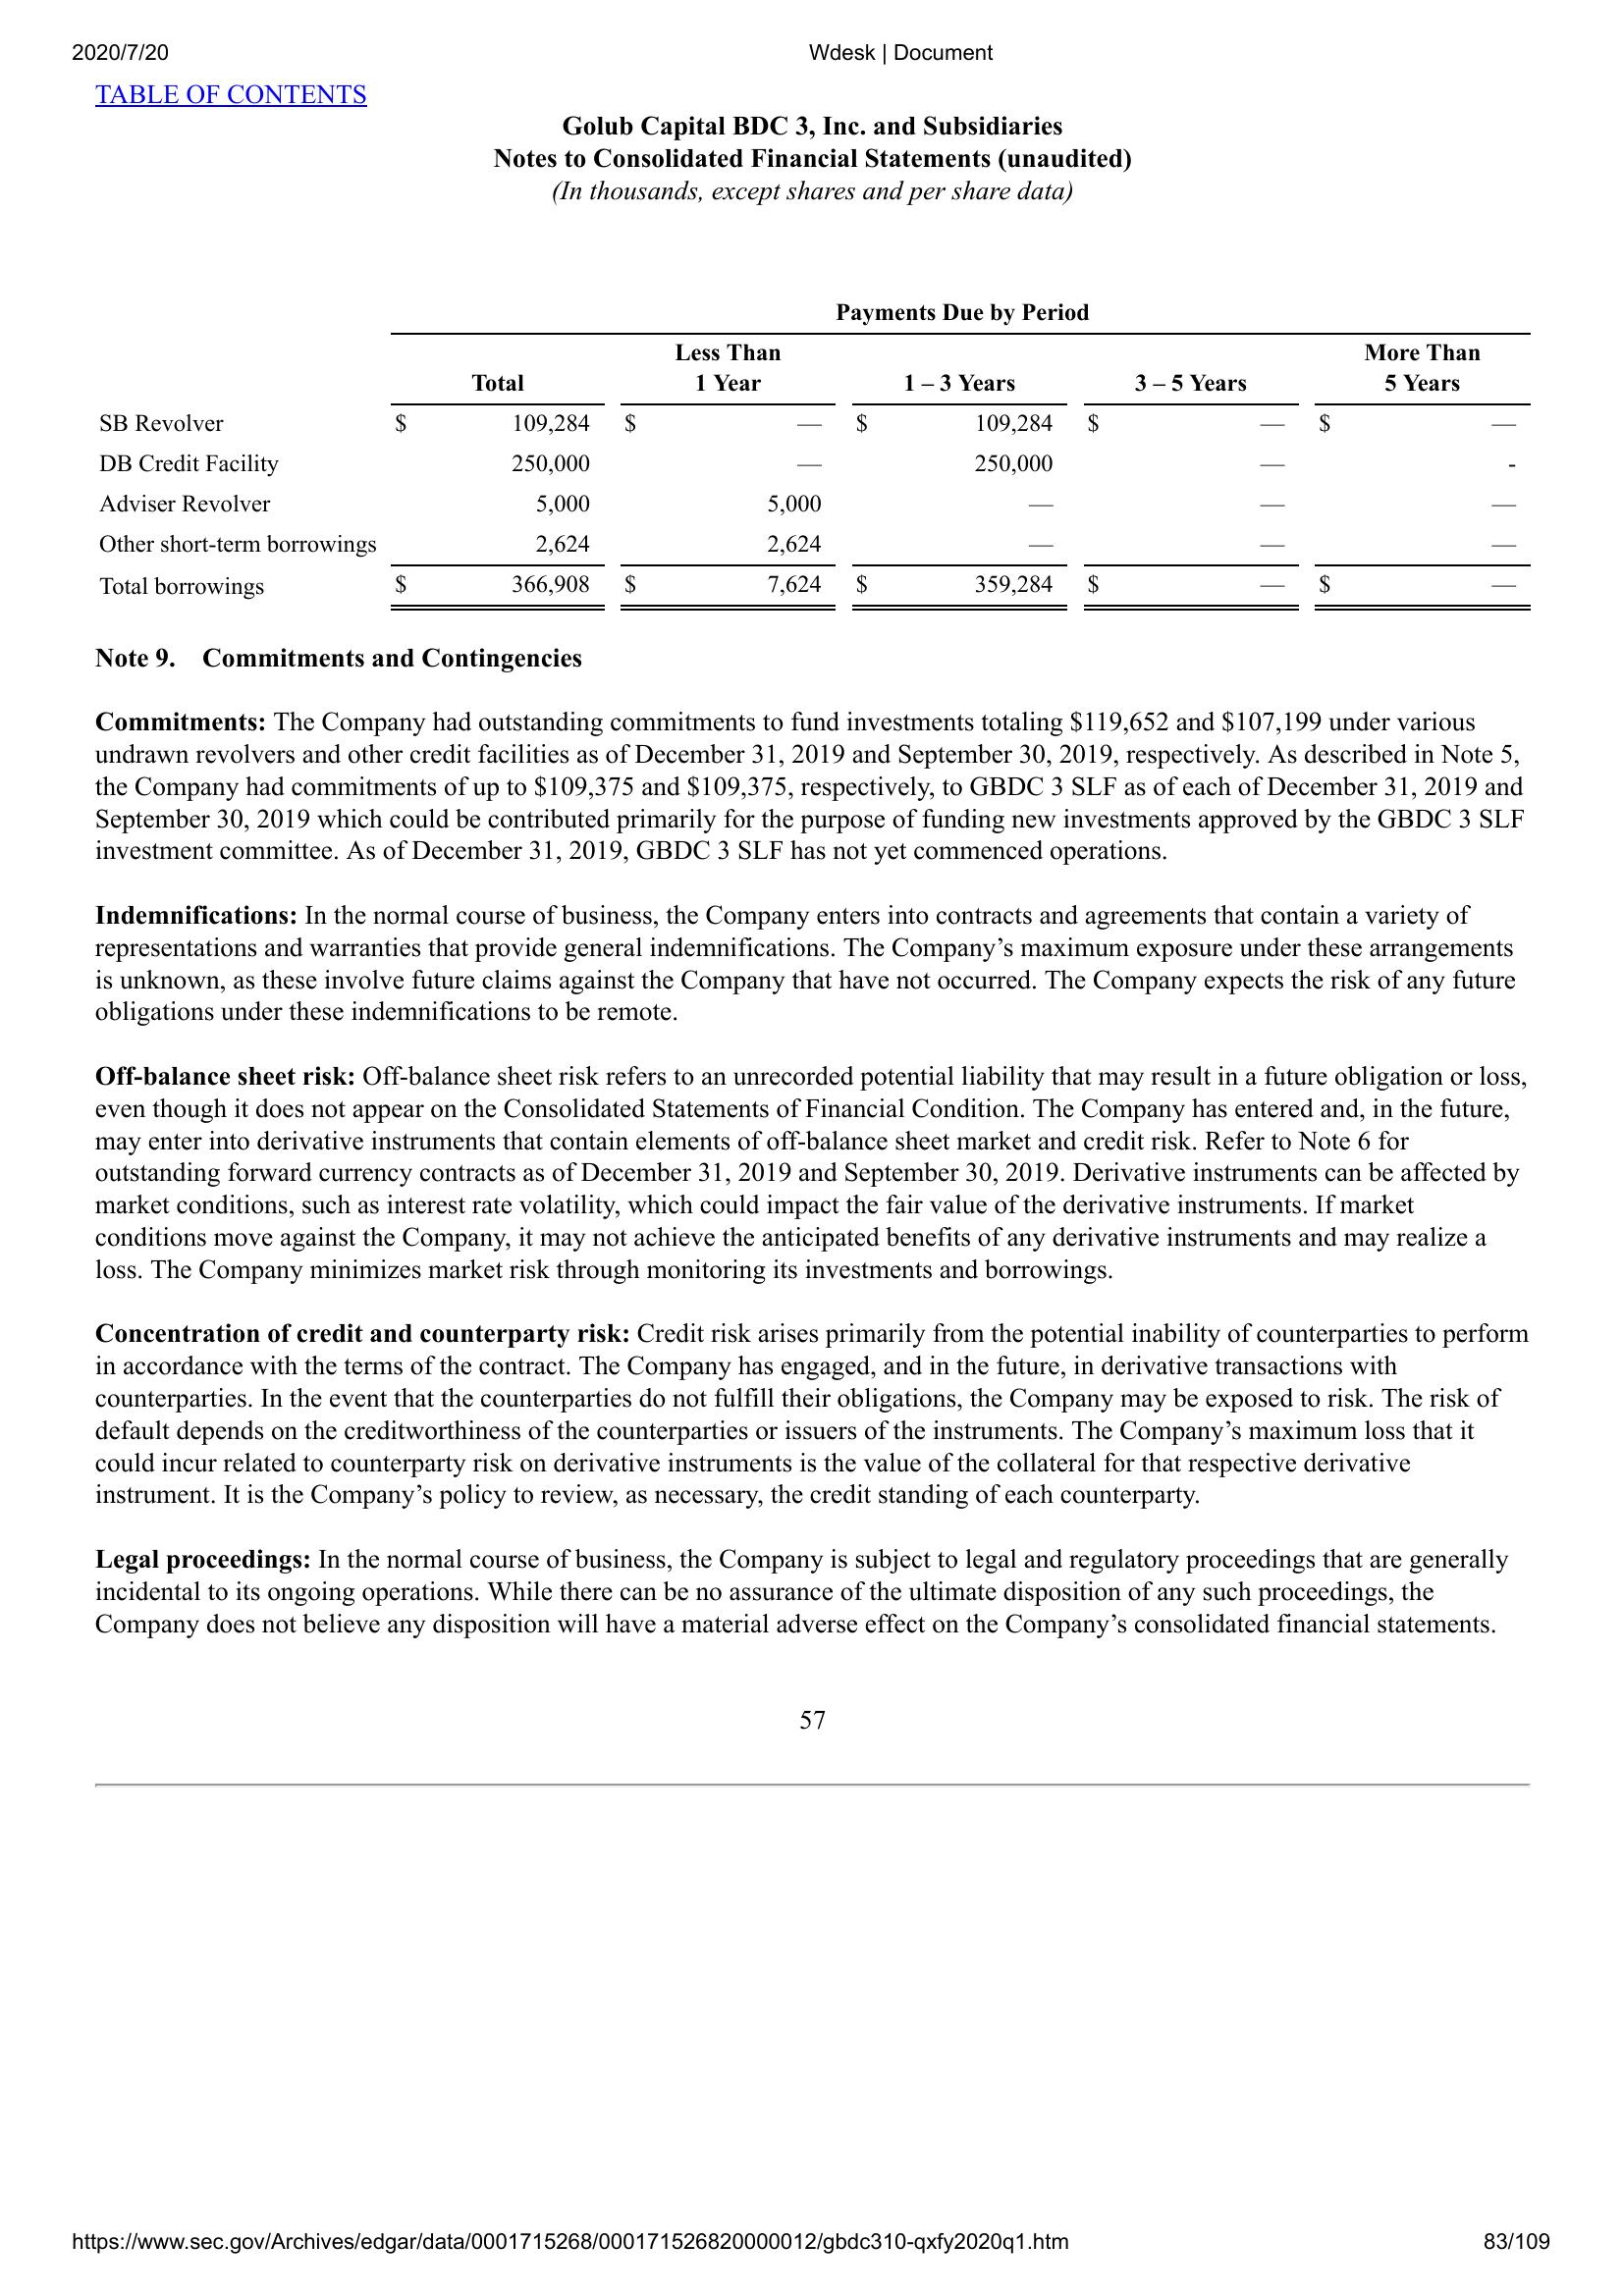table: (84, 298, 1546, 618)
